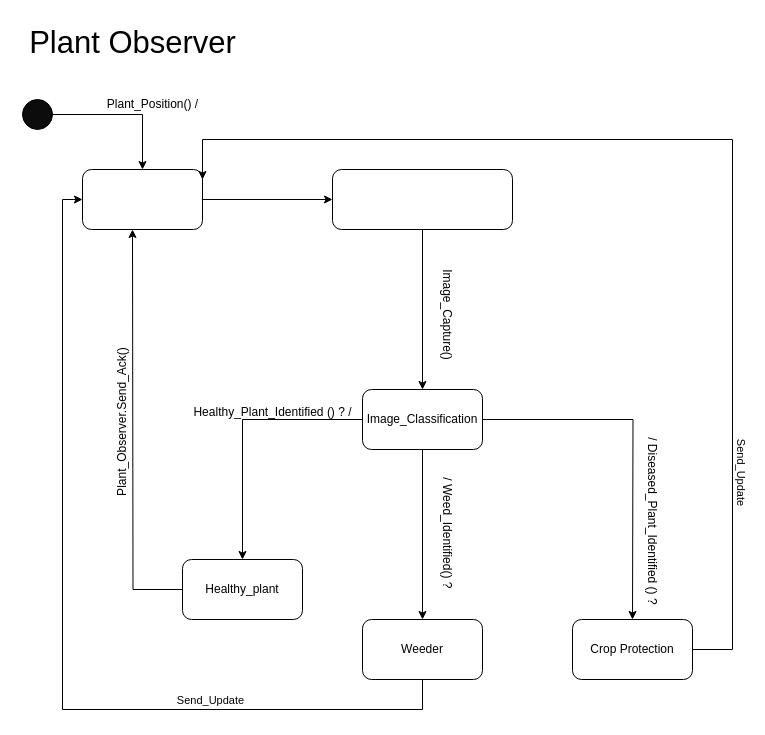
Image size: 765x735. Some labels were removed from this diagram. Each missing label, with the centre of its shape:
"Idle" goes at (142,199).
"Select_plant" goes at (422,199).
